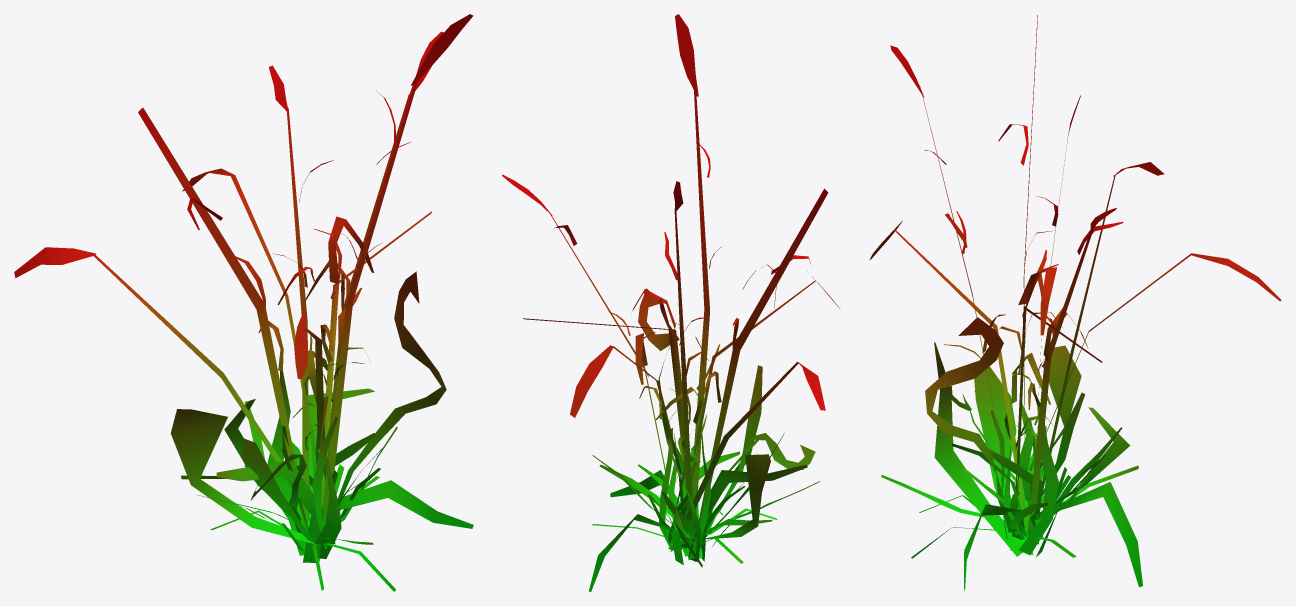
Rendered from Wheat Grass_LOD2_Var2_tdcrdbur.fbx.
3 renders of one model, left to right at view 1: azimuth 30°, elevation 25°; view 2: azimuth 150°, elevation 25°; view 3: azimuth 270°, elevation 25°, orthographic. The views are drawn at different scales.
Visible parts, largest first — view 1: _dddd_Var2_LOD2; view 2: _dddd_Var2_LOD2; view 3: _dddd_Var2_LOD2.
Part boxes in pixels (x1,y1,x2,y2): _dddd_Var2_LOD2: (14, 14, 473, 591); _dddd_Var2_LOD2: (502, 14, 840, 591); _dddd_Var2_LOD2: (869, 15, 1281, 591).
Bounding box in the file's own units: 85.81 × 118 × 79.23.
